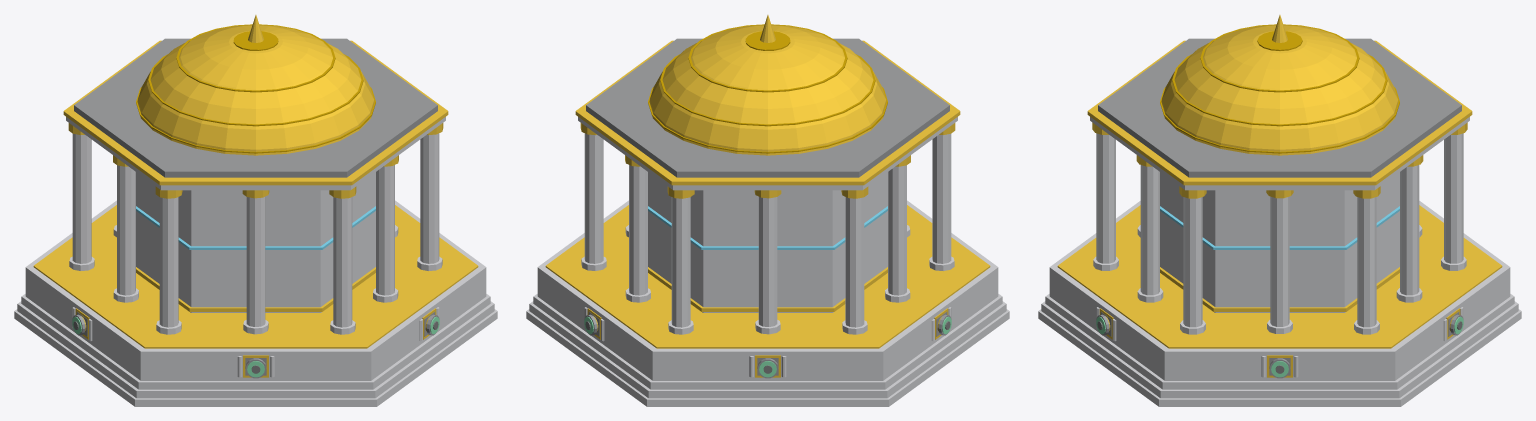
Rendered from exchange_s3_100.glb.
The picture shows the model from 3 angles, left to right: view 1: azimuth 30°, elevation 25°; view 2: azimuth 150°, elevation 25°; view 3: azimuth 270°, elevation 25°; orthographic projection.
Parts seen in each view (by area): view 1: EX_Dome, EX_Cella, EX_PlateauCap, EX_RoofShingle, EX_Plateau, EX_Step2, EX_Step3, EX_Step1, EX_Entablature_Trim, EX_Column_7, EX_Column_9, EX_Column_8 (+11 smaller); view 2: EX_Dome, EX_Cella, EX_PlateauCap, EX_RoofShingle, EX_Plateau, EX_Step2, EX_Step3, EX_Step1, EX_Entablature_Trim, EX_Column_3, EX_Column_5, EX_Column_4 (+11 smaller); view 3: EX_Dome, EX_Cella, EX_PlateauCap, EX_RoofShingle, EX_Plateau, EX_Step2, EX_Step3, EX_Step1, EX_Entablature_Trim, EX_Column_1, EX_Column_11, EX_Column_0 (+11 smaller).
Boxes of the visible parts, <box> form: EX_Dome: <box>137,25,374,155</box>; EX_Cella: <box>136,172,375,312</box>; EX_PlateauCap: <box>33,205,478,348</box>; EX_RoofShingle: <box>74,38,437,177</box>; EX_Plateau: <box>25,200,486,380</box>; EX_Step2: <box>17,301,494,398</box>; EX_Step3: <box>21,294,490,389</box>; EX_Step1: <box>14,309,497,406</box>; EX_Entablature_Trim: <box>63,40,448,185</box>; EX_Column_7: <box>159,197,178,327</box>; EX_Column_9: <box>333,197,352,327</box>; EX_Column_8: <box>246,197,265,326</box>; EX_Dome: <box>649,25,886,155</box>; EX_Cella: <box>648,172,887,312</box>; EX_PlateauCap: <box>545,205,990,348</box>; EX_RoofShingle: <box>586,38,949,177</box>; EX_Plateau: <box>537,200,998,380</box>; EX_Step2: <box>529,301,1006,398</box>; EX_Step3: <box>533,294,1002,389</box>; EX_Step1: <box>526,309,1009,406</box>; EX_Entablature_Trim: <box>575,40,960,185</box>; EX_Column_3: <box>671,197,690,327</box>; EX_Column_5: <box>845,197,864,327</box>; EX_Column_4: <box>758,197,777,326</box>; EX_Dome: <box>1161,25,1398,155</box>; EX_Cella: <box>1160,172,1399,312</box>; EX_PlateauCap: <box>1057,205,1502,348</box>; EX_RoofShingle: <box>1098,38,1461,177</box>; EX_Plateau: <box>1049,201,1510,380</box>; EX_Step2: <box>1041,301,1518,398</box>; EX_Step3: <box>1045,294,1514,389</box>; EX_Step1: <box>1038,309,1521,406</box>; EX_Entablature_Trim: <box>1087,40,1472,185</box>; EX_Column_1: <box>1357,197,1376,327</box>; EX_Column_11: <box>1183,197,1202,327</box>; EX_Column_0: <box>1270,196,1289,326</box>.
Size of the model in its own units: 5.18 by 4.16 by 5.98.
